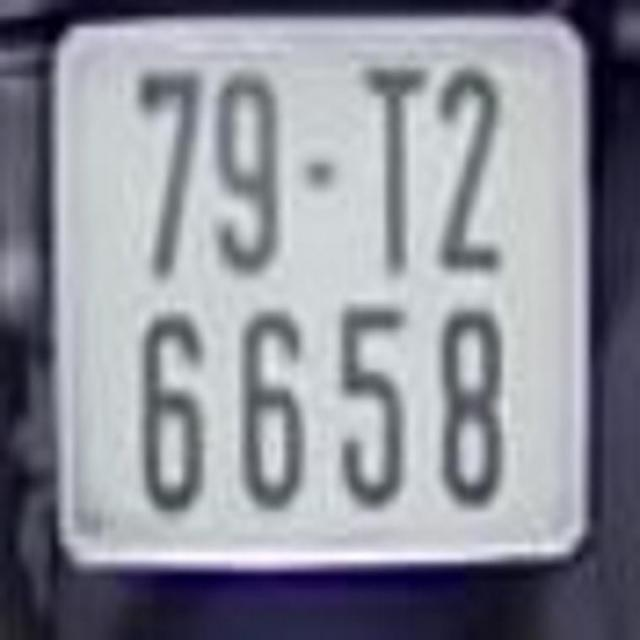2: (436, 58, 507, 272)
5: (336, 300, 407, 508)
6: (232, 299, 306, 511), (136, 310, 208, 510)
7: (132, 63, 200, 280)
8: (434, 300, 518, 510)
9: (211, 63, 285, 274)
T: (359, 61, 427, 276)
